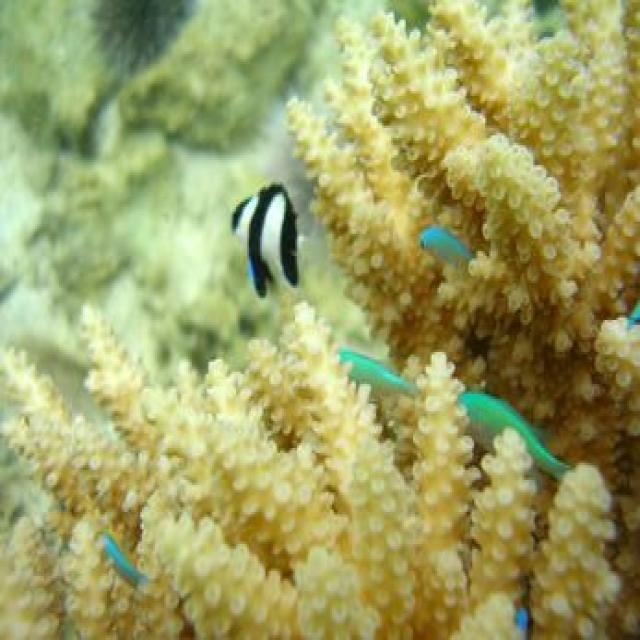ThreeStripedDamselfish: (230, 181, 306, 300)
